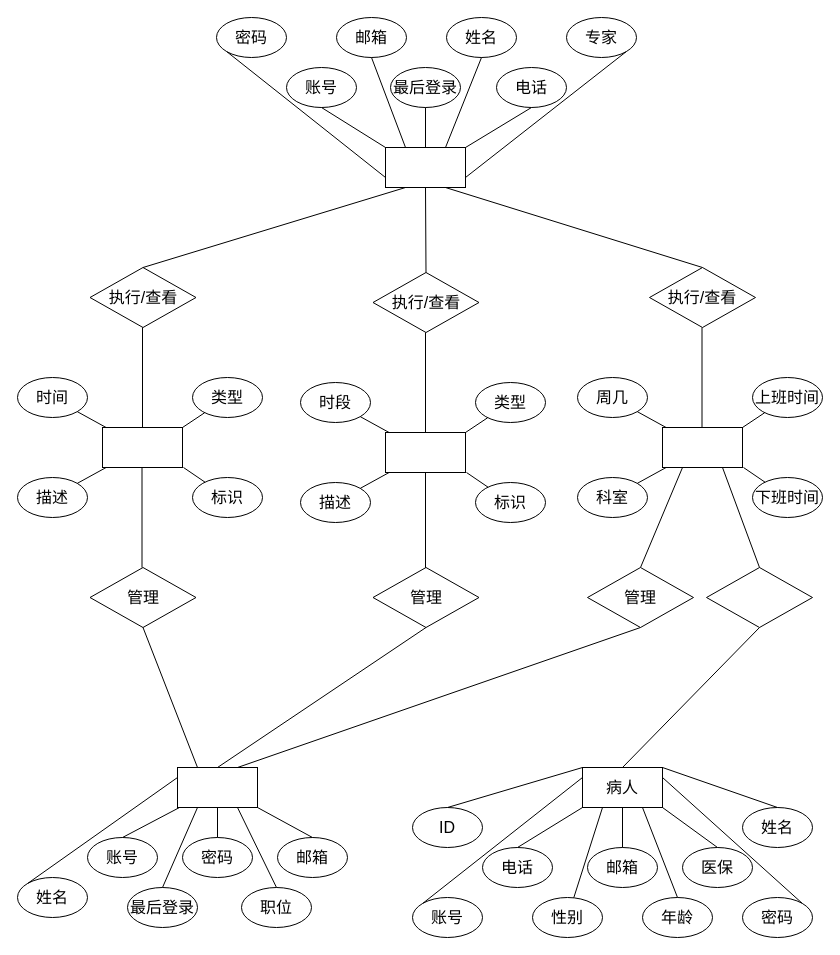
The diagram is 840 pixels wide and 955 high, and some of its shapes have lost their labels. The box of each missing label's shape, as (x1, y1, x2, y2) in pixels:
医生: (384, 146, 466, 188)
打卡: (102, 426, 182, 468)
查看: (706, 566, 812, 628)
班次: (662, 426, 742, 468)
管理员: (176, 766, 258, 808)
请假: (384, 432, 466, 472)
